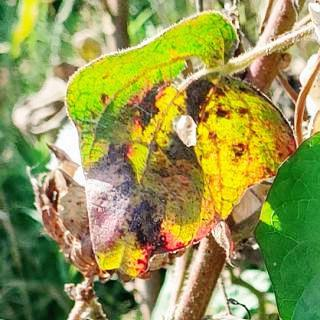blight: (62, 11, 303, 281)
